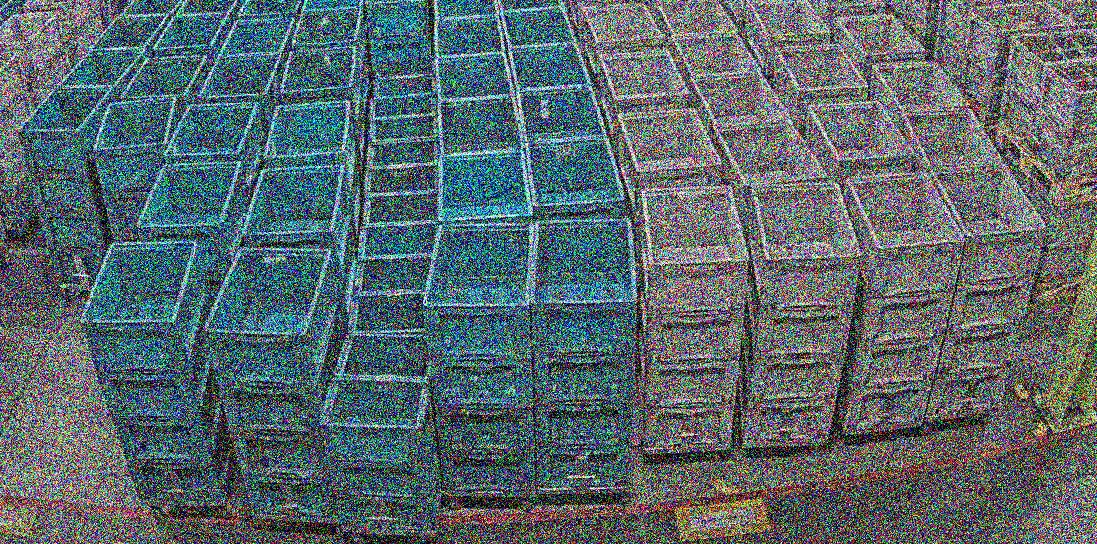4G: (837, 168, 966, 430), (739, 181, 864, 446), (923, 162, 1047, 423), (639, 185, 751, 453)
B4: (79, 241, 232, 505), (202, 246, 348, 519), (421, 221, 537, 495), (528, 217, 638, 490), (91, 95, 180, 242)
B8: (319, 332, 443, 533)
